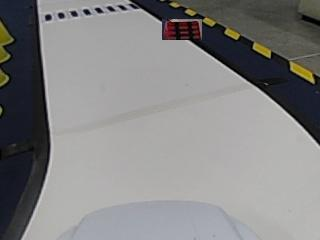crosswalk: (43, 2, 137, 21)
